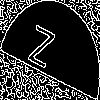Z: (25, 24, 56, 78)
